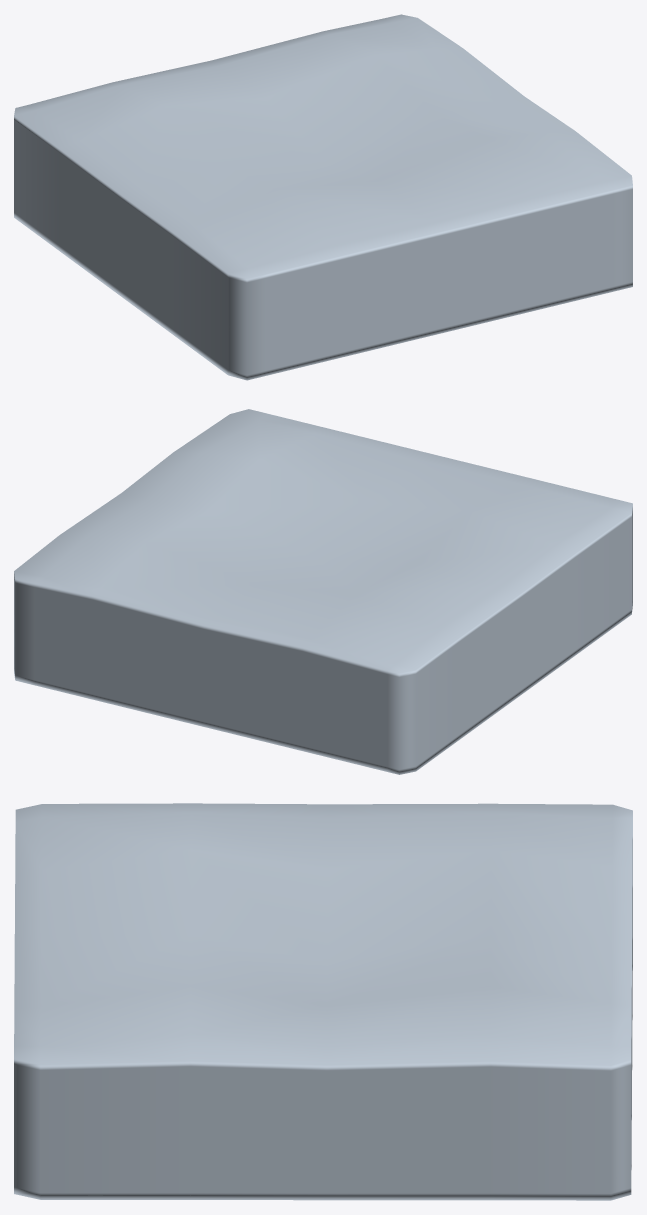
Rendered from cushion.FBX.
3 renders of one model, top to bottom at view 1: azimuth 30°, elevation 25°; view 2: azimuth 150°, elevation 25°; view 3: azimuth 270°, elevation 25°, orthographic. The views are drawn at different scales.
Visible parts, largest first — view 1: cushion; view 2: cushion; view 3: cushion.
Boxes of the visible parts, x1=… form: cushion: x1=14, y1=14, x2=632, y2=380; cushion: x1=14, y1=409, x2=632, y2=774; cushion: x1=14, y1=803, x2=632, y2=1200.
Size of the model in its own units: 153 by 153 by 42.94.
